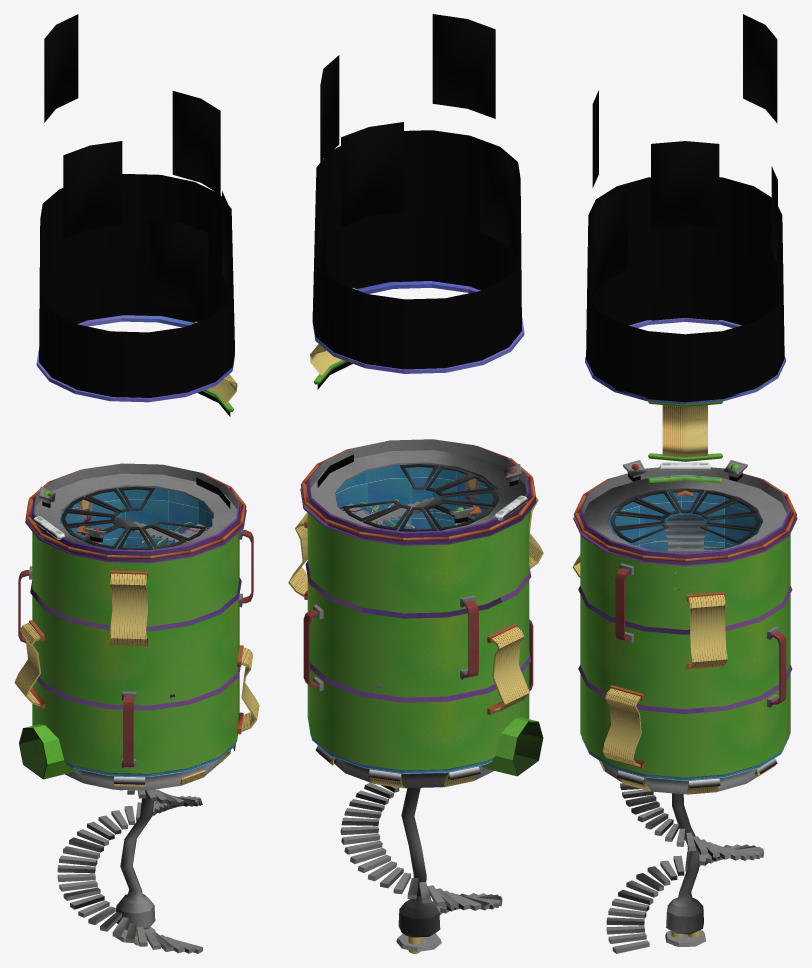
File: meme-factory-tower-02-art.glb
The picture shows the model from 3 angles, left to right: view 1: azimuth 30°, elevation 25°; view 2: azimuth 150°, elevation 25°; view 3: azimuth 270°, elevation 25°; orthographic projection. The views are drawn at different scales.
Parts seen in each view (by area): view 1: MemeFactory_Tower_02_Art; view 2: MemeFactory_Tower_02_Art; view 3: MemeFactory_Tower_02_Art.
Part boxes in pixels (left/top/right/bottom): MemeFactory_Tower_02_Art: left=14, top=14, right=259, bottom=953; MemeFactory_Tower_02_Art: left=288, top=14, right=543, bottom=953; MemeFactory_Tower_02_Art: left=572, top=14, right=797, bottom=953.
Bounding box in the file's own units: 17.06 × 68.17 × 15.45.
Materials: 14 (14 with a texture image).
